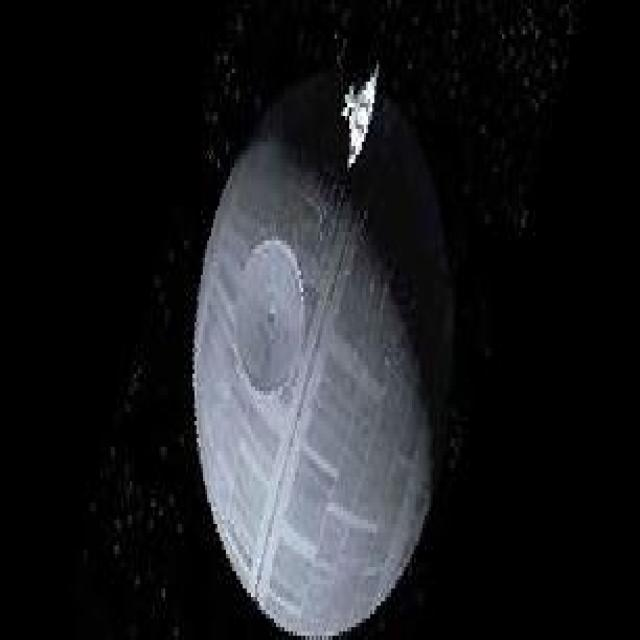Death Star: (195, 72, 458, 634)
